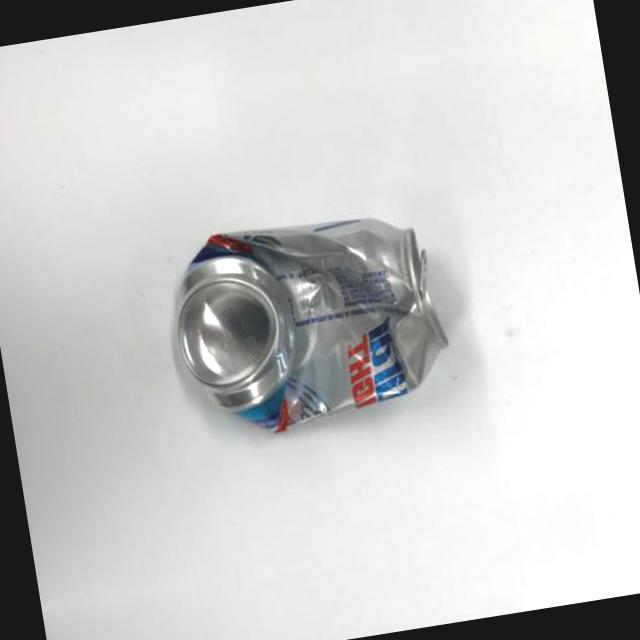Metal: (130, 199, 460, 481)
